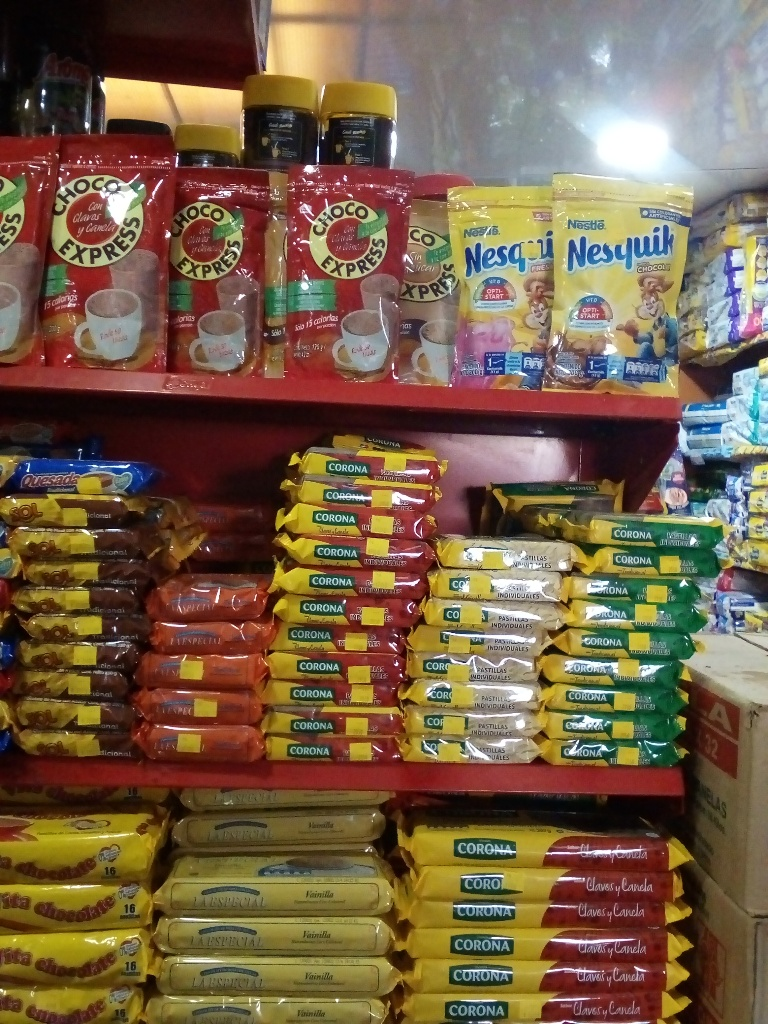COL0170303DYP20000: (551, 169, 694, 401)
COL0170305DYP20000: (452, 171, 563, 395)
